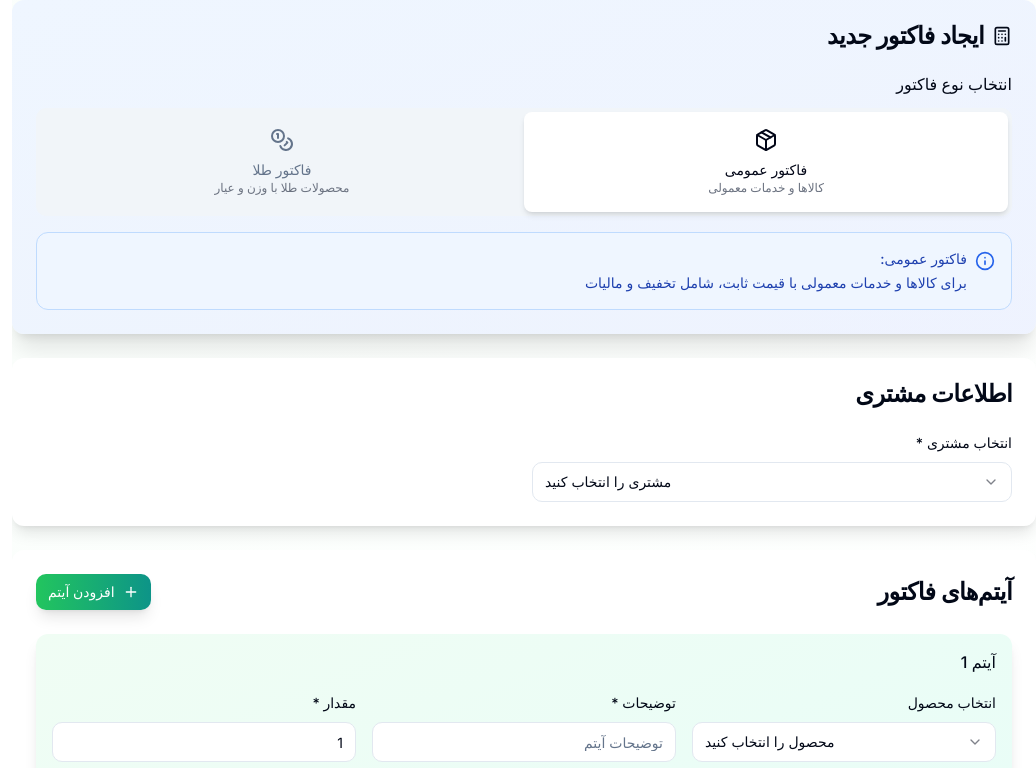
Test case: InvoiceForm › Form Validation › should validate quantity is greater than zero
The width and height of the screenshot is (1036, 768).
Replace the text in the number field labelled "مقدار *" with "0" at (204, 742), box [52,722,356,762]
(page scrolled)
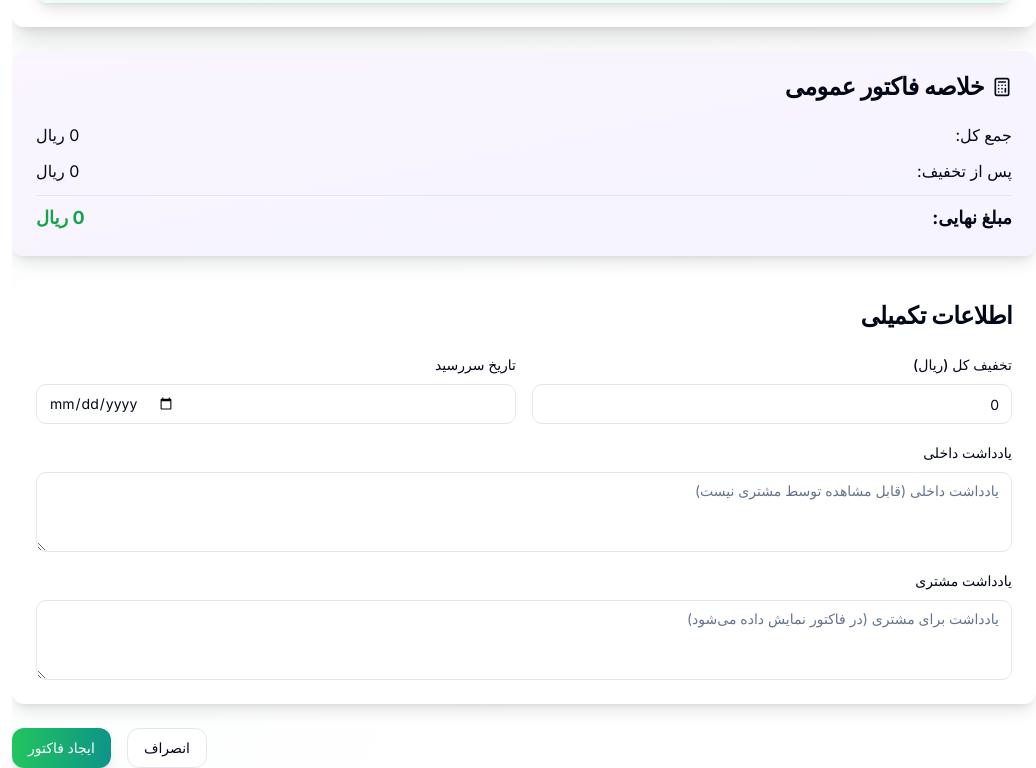
Click the button "ایجاد فاکتور" at (61, 748), box [12,728,111,767]
(page scrolled)
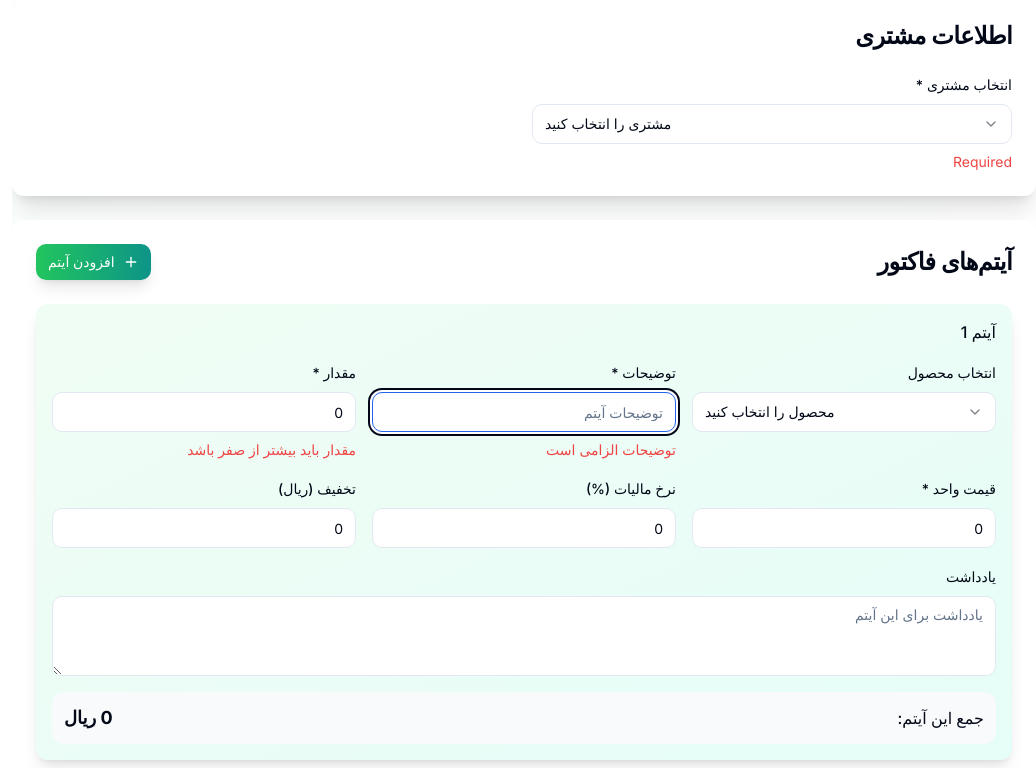
Now the text "مقدار باید بیشتر از صفر باشد" is shown, box [187,441,356,458]
